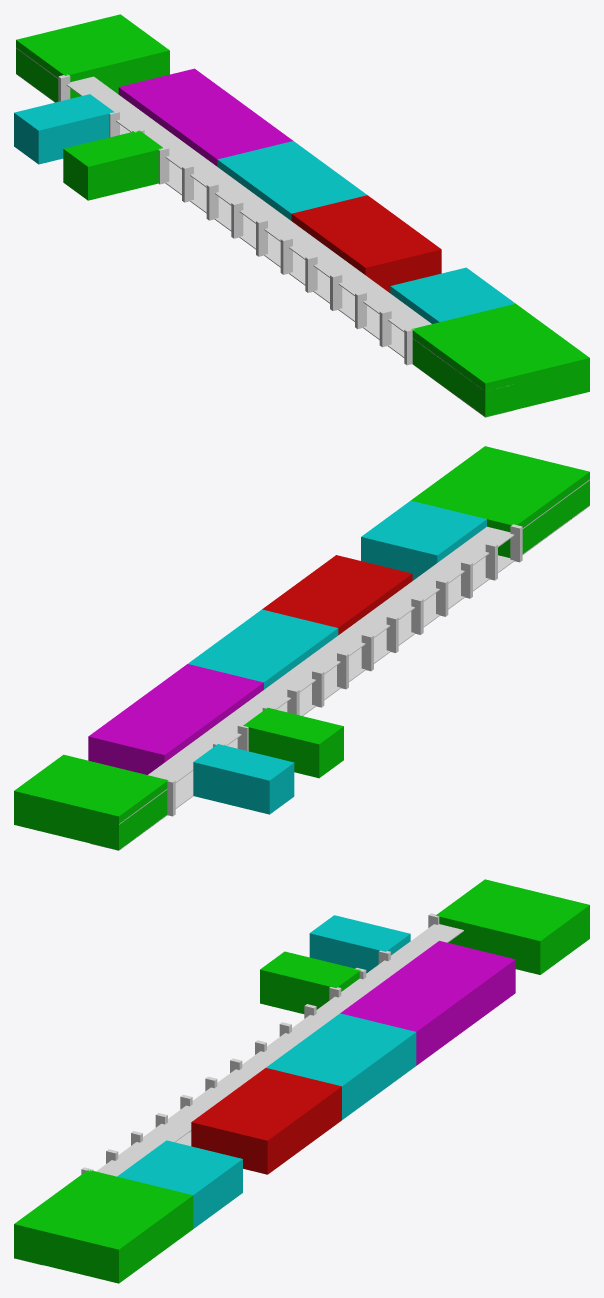
The model's file is BaseModel_Ver2_2F.fbx.
3 views of the same model, one above another, from view 1: azimuth 30°, elevation 25°; view 2: azimuth 150°, elevation 25°; view 3: azimuth 330°, elevation 25° (orthographic).
Parts seen in each view (by area): view 1: 部屋.002, 床.001, 部屋, 事務室, 職員室, 校長室, 部屋.003, 部屋.004, 部屋.001, 床.000; view 2: 部屋, 部屋.002, 事務室, 床.001, 校長室, 職員室, 部屋.001, 部屋.004, 部屋.003, 床.000; view 3: 部屋.002, 事務室, 職員室, 部屋, 校長室, 床.001, 部屋.001, 部屋.003, 部屋.004.
Boxes of the visible parts, <box> form: 部屋.002: <box>411,303,589,417</box>; 床.001: <box>16,48,513,389</box>; 部屋: <box>16,14,169,102</box>; 事務室: <box>118,68,292,166</box>; 職員室: <box>291,195,441,292</box>; 校長室: <box>217,141,367,220</box>; 部屋.003: <box>63,130,162,200</box>; 部屋.004: <box>14,94,114,164</box>; 部屋.001: <box>390,267,515,323</box>; 床.000: <box>16,74,513,417</box>; 部屋: <box>14,754,168,850</box>; 部屋.002: <box>411,446,589,557</box>; 事務室: <box>88,664,263,774</box>; 床.001: <box>119,479,589,824</box>; 校長室: <box>188,609,338,689</box>; 職員室: <box>262,555,412,634</box>; 部屋.001: <box>361,500,486,580</box>; 部屋.004: <box>193,744,294,814</box>; 部屋.003: <box>243,707,343,778</box>; 床.000: <box>90,505,589,850</box>; 部屋.002: <box>14,1169,193,1283</box>; 事務室: <box>340,941,515,1065</box>; 職員室: <box>191,1068,341,1174</box>; 部屋: <box>436,879,589,974</box>; 校長室: <box>266,1013,416,1119</box>; 床.001: <box>96,924,463,1176</box>; 部屋.001: <box>117,1140,242,1228</box>; 部屋.003: <box>260,951,360,1013</box>; 部屋.004: <box>309,915,410,973</box>.
Size of the model in its own units: 1900 by 344 by 8550.
